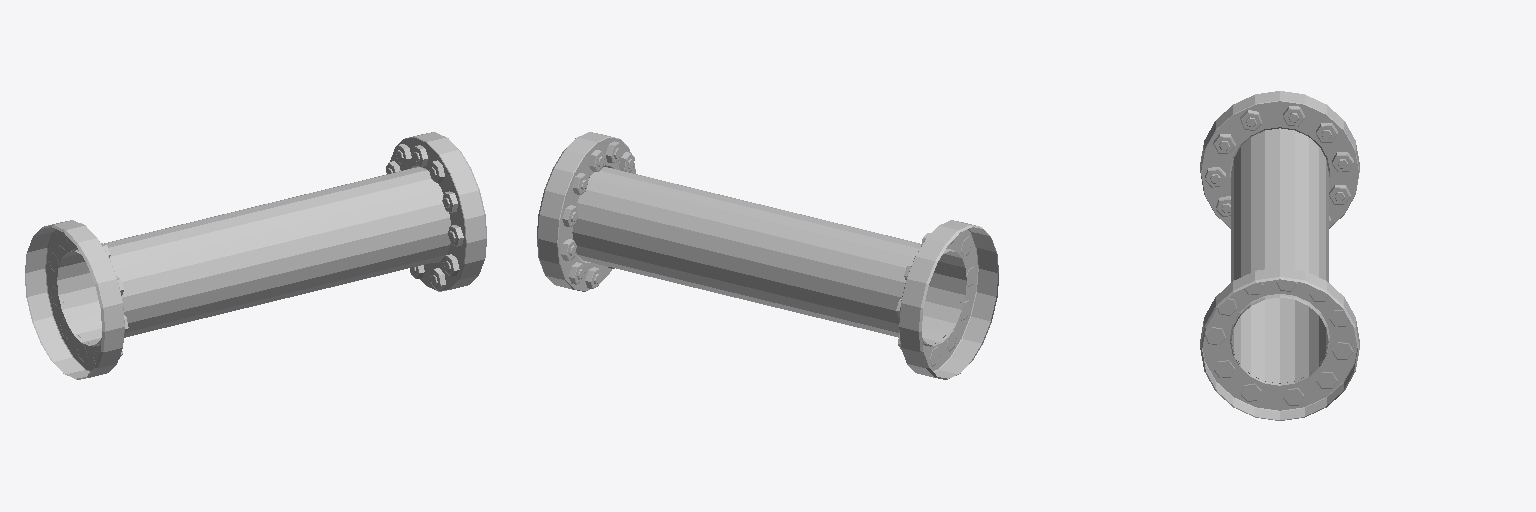
Rendered from StraightPipe_Medium.obj.
3 views of the same model, side by side, from view 1: azimuth 30°, elevation 25°; view 2: azimuth 150°, elevation 25°; view 3: azimuth 270°, elevation 25° (orthographic).
Parts seen in each view (by area): view 1: polySurface39; view 2: polySurface39; view 3: polySurface39.
Part boxes in pixels (x1,y1,x2,y2): polySurface39: (25, 132, 486, 379); polySurface39: (537, 132, 998, 379); polySurface39: (1200, 91, 1359, 420).
Bounding box in the file's own units: 288 × 103 × 103.